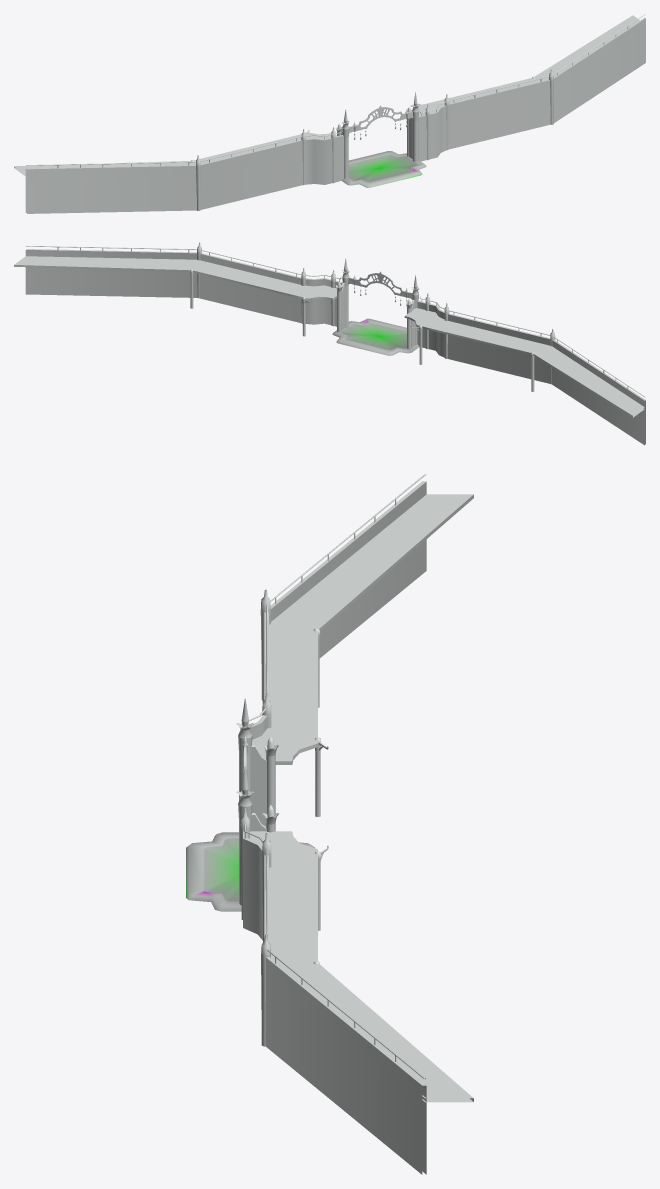
3 views of the same model, one above another, from view 1: azimuth 30°, elevation 25°; view 2: azimuth 150°, elevation 25°; view 3: azimuth 270°, elevation 25° (orthographic). The views are drawn at different scales.
Parts seen in each view (by area): view 1: G:\FFXIV-MapTools\exports\f1f4\bg\ffxiv\fst_f1\fld\f1f4\bgpa (×6); view 2: G:\FFXIV-MapTools\exports\f1f4\bg\ffxiv\fst_f1\fld\f1f4\bgpa (×6); view 3: G:\FFXIV-MapTools\exports\f1f4\bg\ffxiv\fst_f1\fld\f1f4\bgpa (×6).
Part boxes in pixels (bbox=[...]): G:\FFXIV-MapTools\exports\f1f4\bg\ffxiv\fst_f1\fld\f1f4\bgpa (×6): bbox=[14, 14, 645, 213]; G:\FFXIV-MapTools\exports\f1f4\bg\ffxiv\fst_f1\fld\f1f4\bgpa (×6): bbox=[14, 242, 645, 445]; G:\FFXIV-MapTools\exports\f1f4\bg\ffxiv\fst_f1\fld\f1f4\bgpa (×6): bbox=[186, 474, 473, 1174].
Bounding box in the file's own units: 56 × 6.07 × 11.29.
